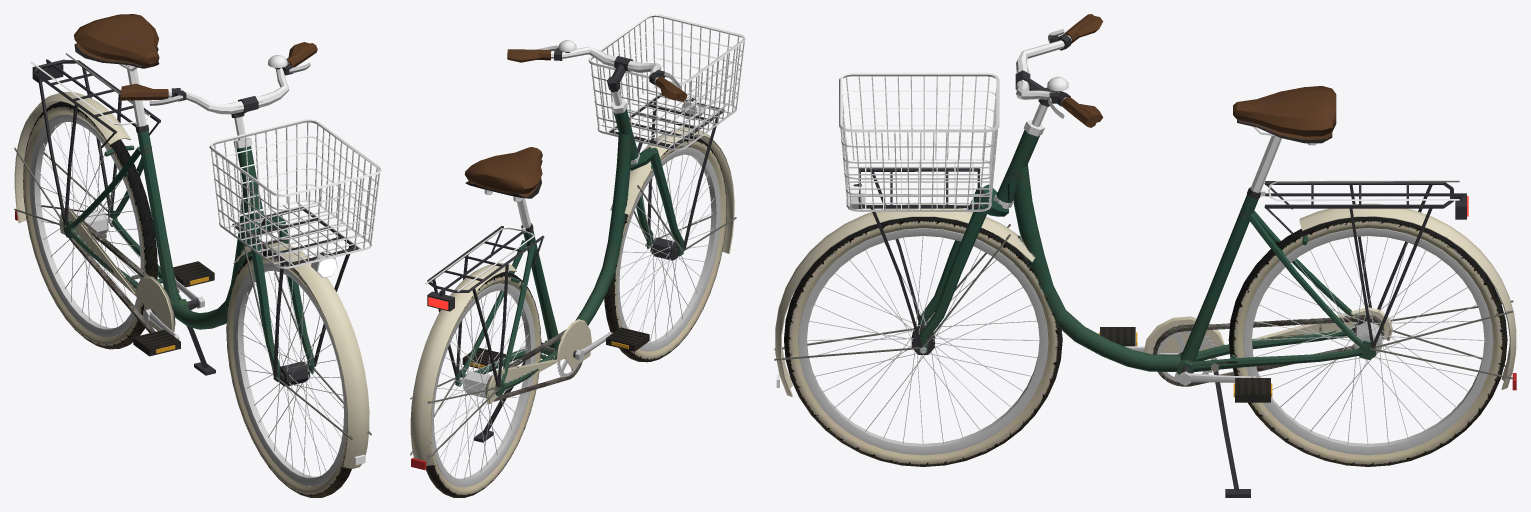
The model's file is bicycle.glb.
The picture shows the model from 3 angles, left to right: view 1: azimuth 30°, elevation 25°; view 2: azimuth 150°, elevation 25°; view 3: azimuth 270°, elevation 25°; orthographic projection. The views are drawn at different scales.
Visible parts, largest first — view 1: body, handlebar_fittings, handlebar_mesh, wheel_F_fittings, wheel_R_fittings, wheel_R_mesh, fittings, wheel_F_mesh, pedal_R_mesh, pedal_L_mesh, cranks_fittings, kickstand_fittings; view 2: body, handlebar_fittings, wheel_F_fittings, wheel_R_fittings, handlebar_mesh, fittings, wheel_F_mesh, wheel_R_mesh, pedal_R_mesh, cranks_fittings, kickstand_fittings, pedal_L_mesh; view 3: body, handlebar_fittings, wheel_F_fittings, wheel_R_fittings, wheel_R_mesh, wheel_F_mesh, handlebar_mesh, fittings, cranks_fittings, pedal_L_mesh, kickstand_fittings.
Boxes of the visible parts, x1,y1,x2,y2 form: body: (14,14,263,332); handlebar_fittings: (149,55,381,465); handlebar_mesh: (120,42,371,468); wheel_F_fittings: (233,263,346,486); wheel_R_fittings: (29,114,143,337); wheel_R_mesh: (23,101,157,349); fittings: (15,53,160,225); wheel_F_mesh: (226,250,351,497); pedal_R_mesh: (133,329,180,356); pedal_L_mesh: (173,261,214,287); cranks_fittings: (143,278,204,339); kickstand_fittings: (186,307,215,375); body: (410,109,638,465); handlebar_fittings: (536,14,745,249); wheel_F_fittings: (617,147,720,351); wheel_R_fittings: (431,283,535,487); handlebar_mesh: (507,49,736,256); fittings: (411,189,544,470); wheel_F_mesh: (604,136,726,362); wheel_R_mesh: (426,272,541,497); pedal_R_mesh: (606,327,649,351); cranks_fittings: (502,332,612,377); kickstand_fittings: (474,361,525,442); pedal_L_mesh: (462,347,505,371); body: (996,86,1516,389); handlebar_fittings: (776,29,1071,387); wheel_F_fittings: (798,228,1048,455); wheel_R_fittings: (1243,228,1493,455); wheel_R_mesh: (1228,217,1507,466); wheel_F_mesh: (784,217,1062,466); handlebar_mesh: (774,14,1103,396); fittings: (1247,126,1516,390); cranks_fittings: (1125,330,1256,385); pedal_L_mesh: (1235,378,1270,402); kickstand_fittings: (1213,371,1250,497).
Size of the model in its own units: 0.6256 by 1.15 by 1.87.
Materials: 10 (1 with a texture image).
